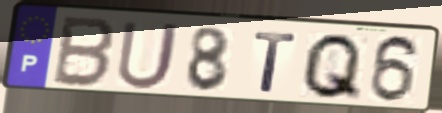6: (368, 32, 426, 106)
8: (186, 25, 234, 94)
B: (49, 13, 120, 91)
Q: (298, 31, 366, 103)
T: (251, 30, 299, 96)
U: (114, 19, 184, 92)
